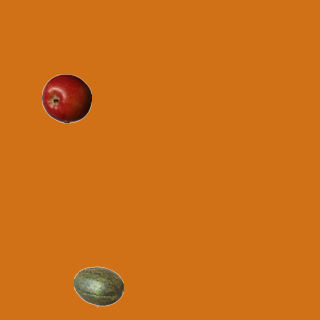Apple Braeburn: (41, 73, 91, 123)
Melon Piel de Sapo: (73, 261, 123, 311)
